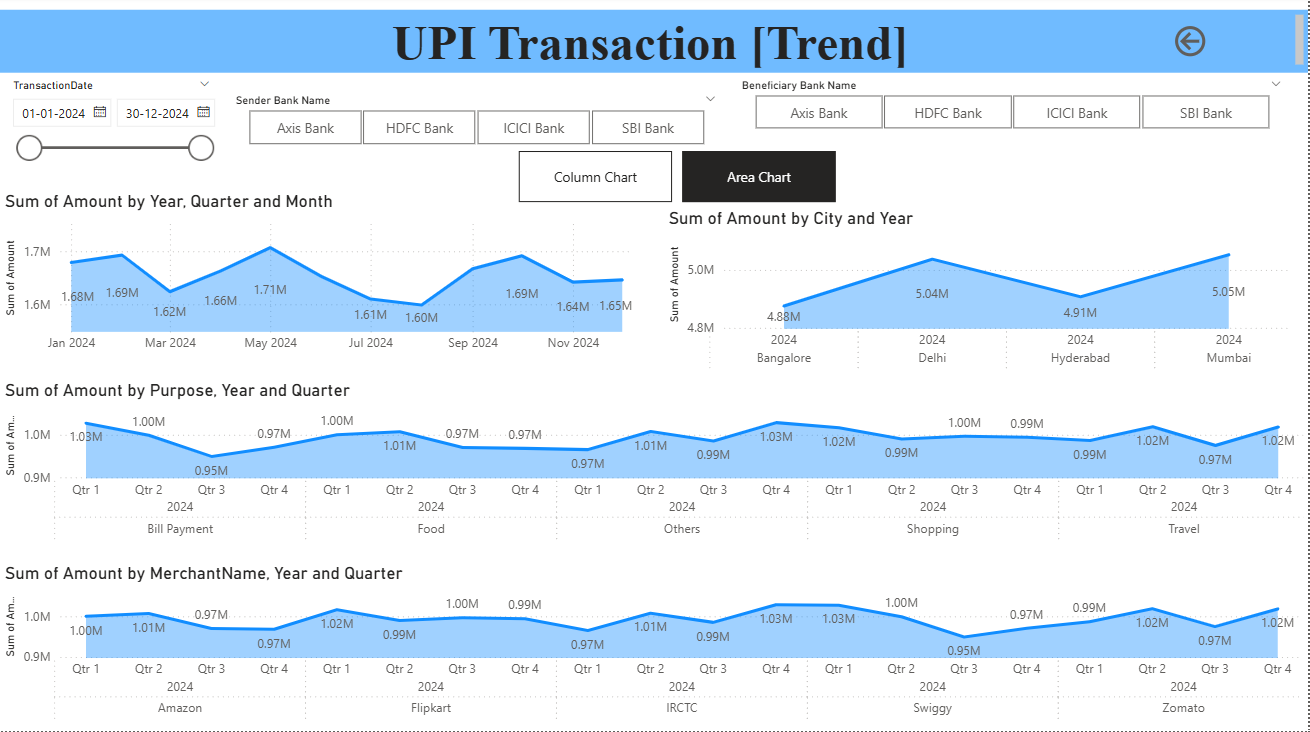

Layout of this report page (visuals, bound fields, positions):
{"tool":"powerbi","page":{"name":"Trend","canvas":[1280,720],"ordinal":3},"visuals":[{"type":"textbox","box":[0,13.7,1280.3,61.7],"z":0},{"type":"slicer","fields":{"Values":["Upi Transaction.TransactionDate"]},"box":[0,75.7,217.7,90.6],"z":1000},{"type":"slicer","fields":{"Values":["Upi Transaction.BankNameSent"]},"box":[217.3,90.1,495.1,61.7],"z":2000},{"type":"slicer","fields":{"Values":["Upi Transaction.BankNameReceived"]},"box":[712.5,75.7,552.9,60.8],"z":3000},{"type":"actionButton","box":[1144.4,24.7,100,39.5],"z":4000},{"type":"stackedAreaChart","fields":{"Y":["Sum(Upi Transaction.Amount)"],"Category":["Upi Transaction.TransactionDate.Variation.Date Hierarchy.Year","Upi Transaction.TransactionDate.Variation.Date Hierarchy.Quarter","Upi Transaction.TransactionDate.Variation.Date Hierarchy.Month"]},"box":[0,191,640,167],"z":5000},{"type":"stackedAreaChart","fields":{"Y":["Sum(Upi Transaction.Amount)"],"Category":["Upi Transaction.City","Upi Transaction.TransactionDate.Variation.Date Hierarchy.Year"]},"box":[649.4,206.2,616,169.1],"z":6000},{"type":"areaChart","fields":{"Y":["Sum(Upi Transaction.Amount)"],"Category":["Upi Transaction.Purpose","Upi Transaction.TransactionDate.Variation.Date Hierarchy.Year","Upi Transaction.TransactionDate.Variation.Date Hierarchy.Quarter"]},"box":[0,375.8,1280.3,167.6],"z":7000},{"type":"areaChart","fields":{"Y":["Sum(Upi Transaction.Amount)"],"Category":["Upi Transaction.MerchantName","Upi Transaction.TransactionDate.Variation.Date Hierarchy.Year","Upi Transaction.TransactionDate.Variation.Date Hierarchy.Quarter"]},"box":[0,554.5,1279.7,164.9],"z":8000},{"type":"bookmarkNavigator","box":[507.8,151.9,310.4,50.6],"z":13000}]}

Visuals, with their boxes in screenshot pixels (x1, y1, x2, y2), scaled from the page's 1280x720 canvas onto the 1310x732 screenshot:
textbox: <box>0,14,1309,77</box>
slicer - Upi Transaction.TransactionDate: <box>0,77,223,169</box>
slicer - Upi Transaction.BankNameSent: <box>222,92,729,154</box>
slicer - Upi Transaction.BankNameReceived: <box>729,77,1295,139</box>
actionButton: <box>1171,25,1274,65</box>
stackedAreaChart - Sum(Upi Transaction.Amount) x Upi Transaction.TransactionDate.Variation.Date Hierarchy.Year: <box>0,194,655,364</box>
stackedAreaChart - Sum(Upi Transaction.Amount) x Upi Transaction.City: <box>665,210,1295,382</box>
areaChart - Sum(Upi Transaction.Amount) x Upi Transaction.Purpose: <box>0,382,1309,552</box>
areaChart - Sum(Upi Transaction.Amount) x Upi Transaction.MerchantName: <box>0,564,1309,731</box>
bookmarkNavigator: <box>520,154,837,206</box>
